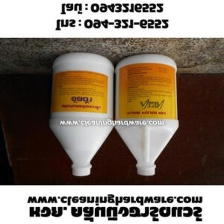cleaning_solution: (46, 49, 116, 178), (110, 51, 181, 177)
